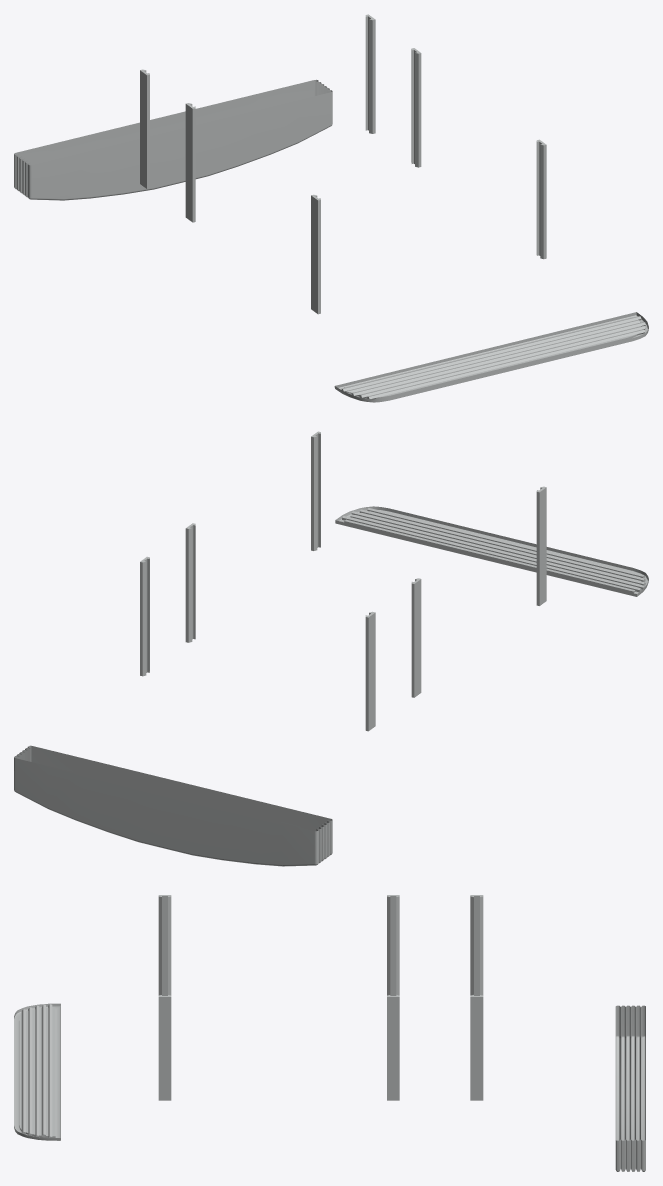
Rendered from FridgebodymeshFridgeA1_0_GeomSubset_1.obj.
3 renders of one model, top to bottom at view 1: azimuth 30°, elevation 25°; view 2: azimuth 150°, elevation 25°; view 3: azimuth 270°, elevation 25°, orthographic. The views are drawn at different scales.
Visible parts, largest first — view 1: FridgebodymeshFridgeA1_0_GeomSubset_1; view 2: FridgebodymeshFridgeA1_0_GeomSubset_1; view 3: FridgebodymeshFridgeA1_0_GeomSubset_1.
Boxes of the visible parts, x1=… form: FridgebodymeshFridgeA1_0_GeomSubset_1: x1=14, y1=14, x2=648, y2=402; FridgebodymeshFridgeA1_0_GeomSubset_1: x1=14, y1=431, x2=648, y2=866; FridgebodymeshFridgeA1_0_GeomSubset_1: x1=14, y1=895, x2=645, y2=1171.
Size of the model in its own units: 0.9855 by 0.6033 by 1.96.
